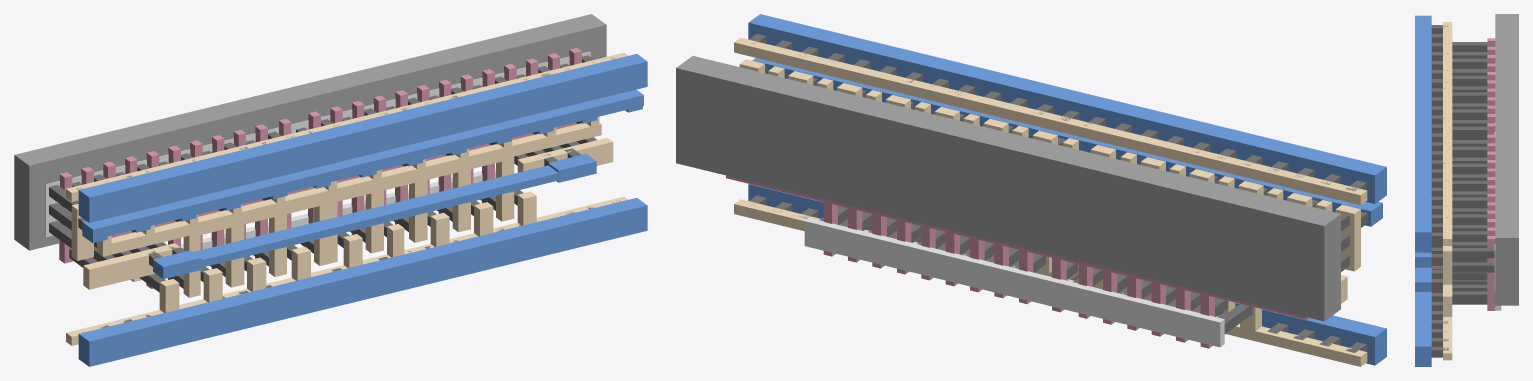
File: sky130_fd_sc_hd__lpflow_clkinvkapwr_16.gds.gltf
3 renders of one model, left to right at view 1: azimuth 30°, elevation 25°; view 2: azimuth 150°, elevation 25°; view 3: azimuth 270°, elevation 25°, orthographic. The views are drawn at different scales.
Visible parts, largest first — view 1: sky130_fd_sc_hd__lpflow_clkinvkapwr_16_met1, sky130_fd_sc_hd__lpflow_clkinvkapwr_16_li1, sky130_fd_sc_hd__lpflow_clkinvkapwr_16_nwell, sky130_fd_sc_hd__lpflow_clkinvkapwr_16_poly, sky130_fd_sc_hd__lpflow_clkinvkapwr_16_licon, sky130_fd_sc_hd__lpflow_clkinvkapwr_16_diff, sky130_fd_sc_hd__lpflow_clkinvkapwr_16_mcon; view 2: sky130_fd_sc_hd__lpflow_clkinvkapwr_16_nwell, sky130_fd_sc_hd__lpflow_clkinvkapwr_16_met1, sky130_fd_sc_hd__lpflow_clkinvkapwr_16_li1, sky130_fd_sc_hd__lpflow_clkinvkapwr_16_diff, sky130_fd_sc_hd__lpflow_clkinvkapwr_16_poly, sky130_fd_sc_hd__lpflow_clkinvkapwr_16_mcon, sky130_fd_sc_hd__lpflow_clkinvkapwr_16_licon; view 3: sky130_fd_sc_hd__lpflow_clkinvkapwr_16_licon, sky130_fd_sc_hd__lpflow_clkinvkapwr_16_nwell, sky130_fd_sc_hd__lpflow_clkinvkapwr_16_met1, sky130_fd_sc_hd__lpflow_clkinvkapwr_16_mcon, sky130_fd_sc_hd__lpflow_clkinvkapwr_16_li1, sky130_fd_sc_hd__lpflow_clkinvkapwr_16_poly, sky130_fd_sc_hd__lpflow_clkinvkapwr_16_diff.
Part boxes in pixels (left/top/right/bottom): sky130_fd_sc_hd__lpflow_clkinvkapwr_16_met1: left=78, top=54, right=647, bottom=366; sky130_fd_sc_hd__lpflow_clkinvkapwr_16_li1: left=66, top=52, right=628, bottom=345; sky130_fd_sc_hd__lpflow_clkinvkapwr_16_nwell: left=14, top=14, right=606, bottom=250; sky130_fd_sc_hd__lpflow_clkinvkapwr_16_poly: left=59, top=48, right=581, bottom=288; sky130_fd_sc_hd__lpflow_clkinvkapwr_16_licon: left=49, top=55, right=596, bottom=292; sky130_fd_sc_hd__lpflow_clkinvkapwr_16_diff: left=45, top=51, right=590, bottom=281; sky130_fd_sc_hd__lpflow_clkinvkapwr_16_mcon: left=76, top=57, right=619, bottom=332; sky130_fd_sc_hd__lpflow_clkinvkapwr_16_nwell: left=676, top=56, right=1340, bottom=321; sky130_fd_sc_hd__lpflow_clkinvkapwr_16_met1: left=748, top=14, right=1386, bottom=365; sky130_fd_sc_hd__lpflow_clkinvkapwr_16_li1: left=734, top=37, right=1367, bottom=366; sky130_fd_sc_hd__lpflow_clkinvkapwr_16_diff: left=804, top=218, right=1224, bottom=347; sky130_fd_sc_hd__lpflow_clkinvkapwr_16_poly: left=726, top=175, right=1308, bottom=348; sky130_fd_sc_hd__lpflow_clkinvkapwr_16_mcon: left=749, top=34, right=1367, bottom=352; sky130_fd_sc_hd__lpflow_clkinvkapwr_16_licon: left=744, top=67, right=1349, bottom=333; sky130_fd_sc_hd__lpflow_clkinvkapwr_16_licon: left=1452, top=42, right=1494, bottom=304; sky130_fd_sc_hd__lpflow_clkinvkapwr_16_nwell: left=1495, top=14, right=1518, bottom=305; sky130_fd_sc_hd__lpflow_clkinvkapwr_16_met1: left=1415, top=15, right=1431, bottom=366; sky130_fd_sc_hd__lpflow_clkinvkapwr_16_mcon: left=1431, top=25, right=1448, bottom=357; sky130_fd_sc_hd__lpflow_clkinvkapwr_16_li1: left=1443, top=22, right=1452, bottom=360; sky130_fd_sc_hd__lpflow_clkinvkapwr_16_poly: left=1487, top=38, right=1495, bottom=310; sky130_fd_sc_hd__lpflow_clkinvkapwr_16_diff: left=1494, top=132, right=1501, bottom=310.
Bounding box in the file's own units: 11.42 × 3.2 × 2.24.
